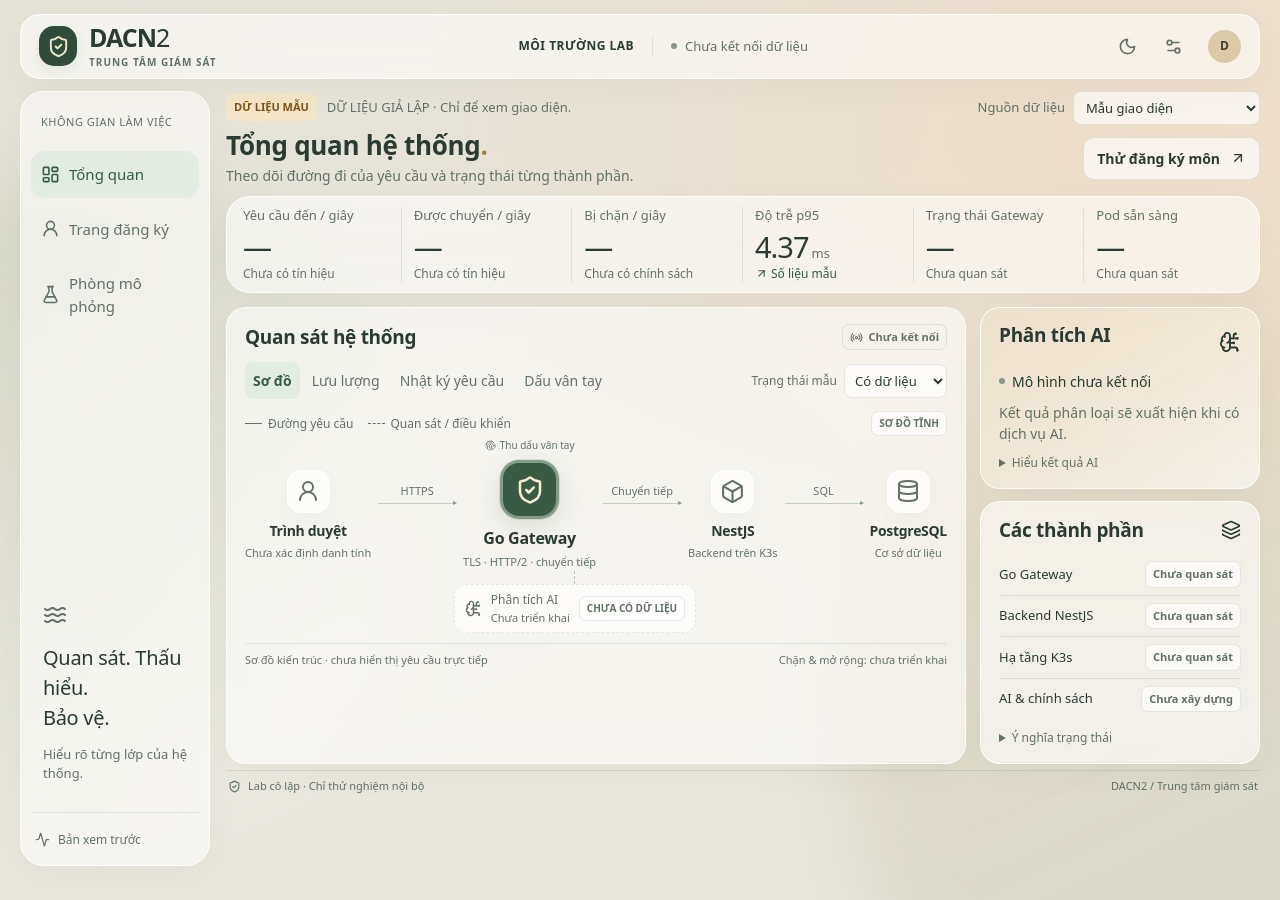
Test: design preview provenance and boundaries › removes sample metrics, chart and events when switching to unavailable Live
Expected: the text "4.37" is shown, [755,227,808,266]
Select "Trực tiếp (chưa có)" in the dropdown labelled "Nguồn dữ liệu": (1166, 108) [1073,90,1260,124]
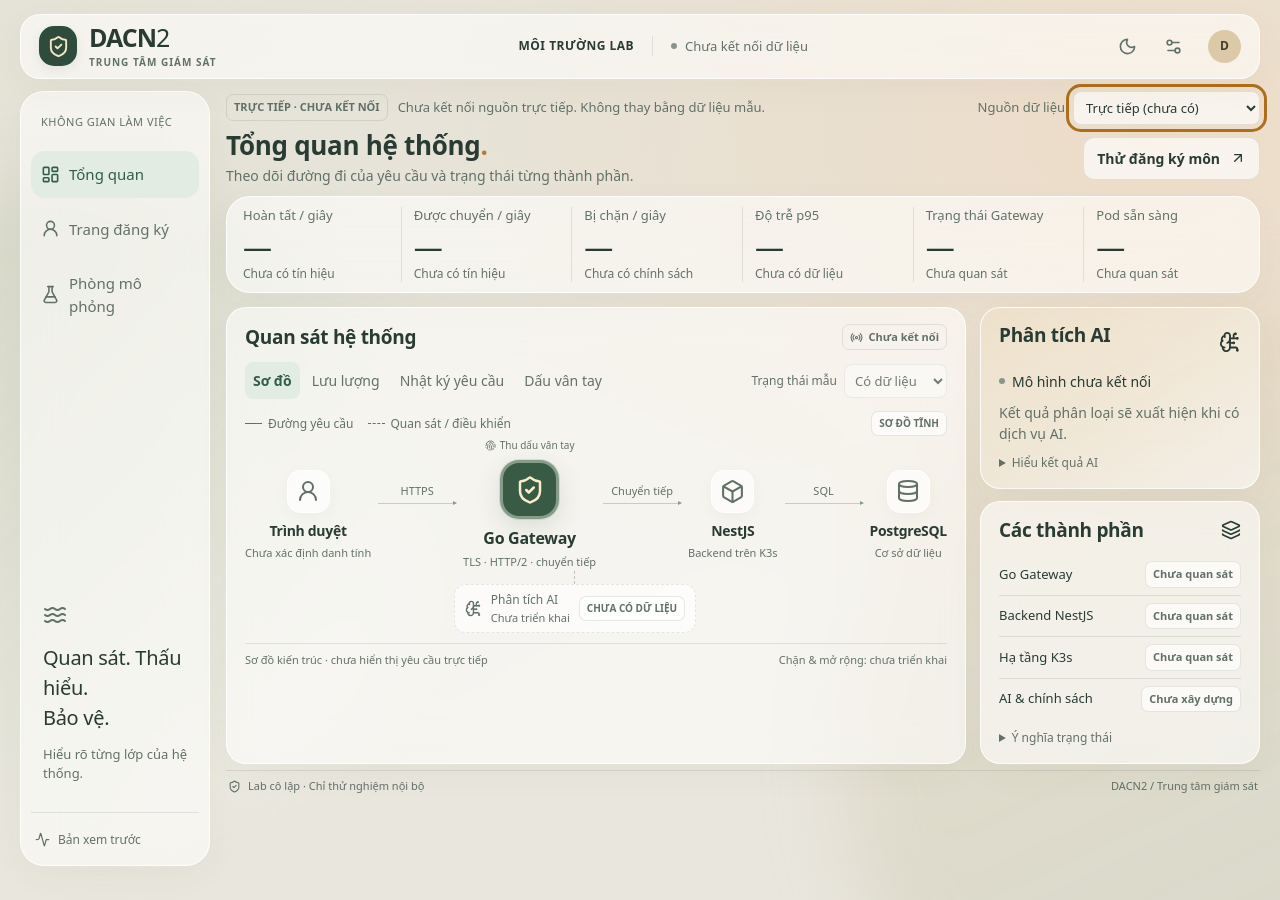
Expected: the text "4.37" is gone
Expected: the text "TRỰC TIẾP · CHƯA KẾT NỐI" is shown, [226,94,388,121]
